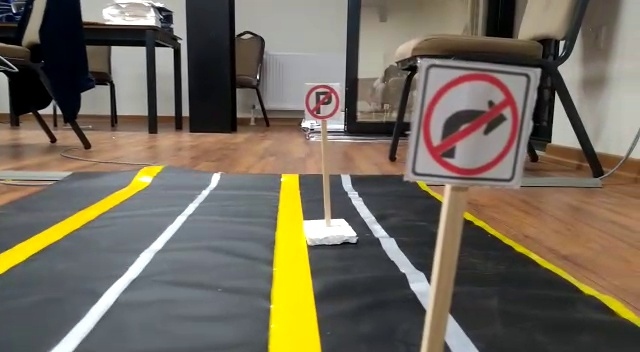park_yapilmaz: (304, 83, 342, 121)
saga_donulmez: (419, 59, 523, 185)
